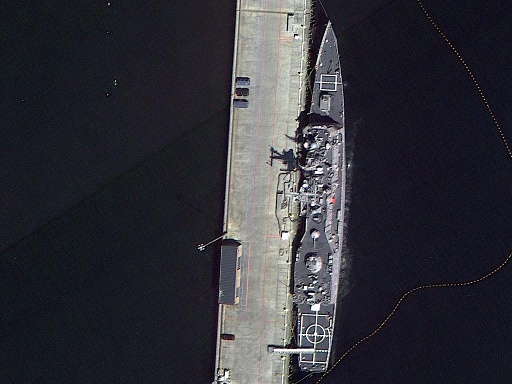ship: (285, 20, 361, 375)
